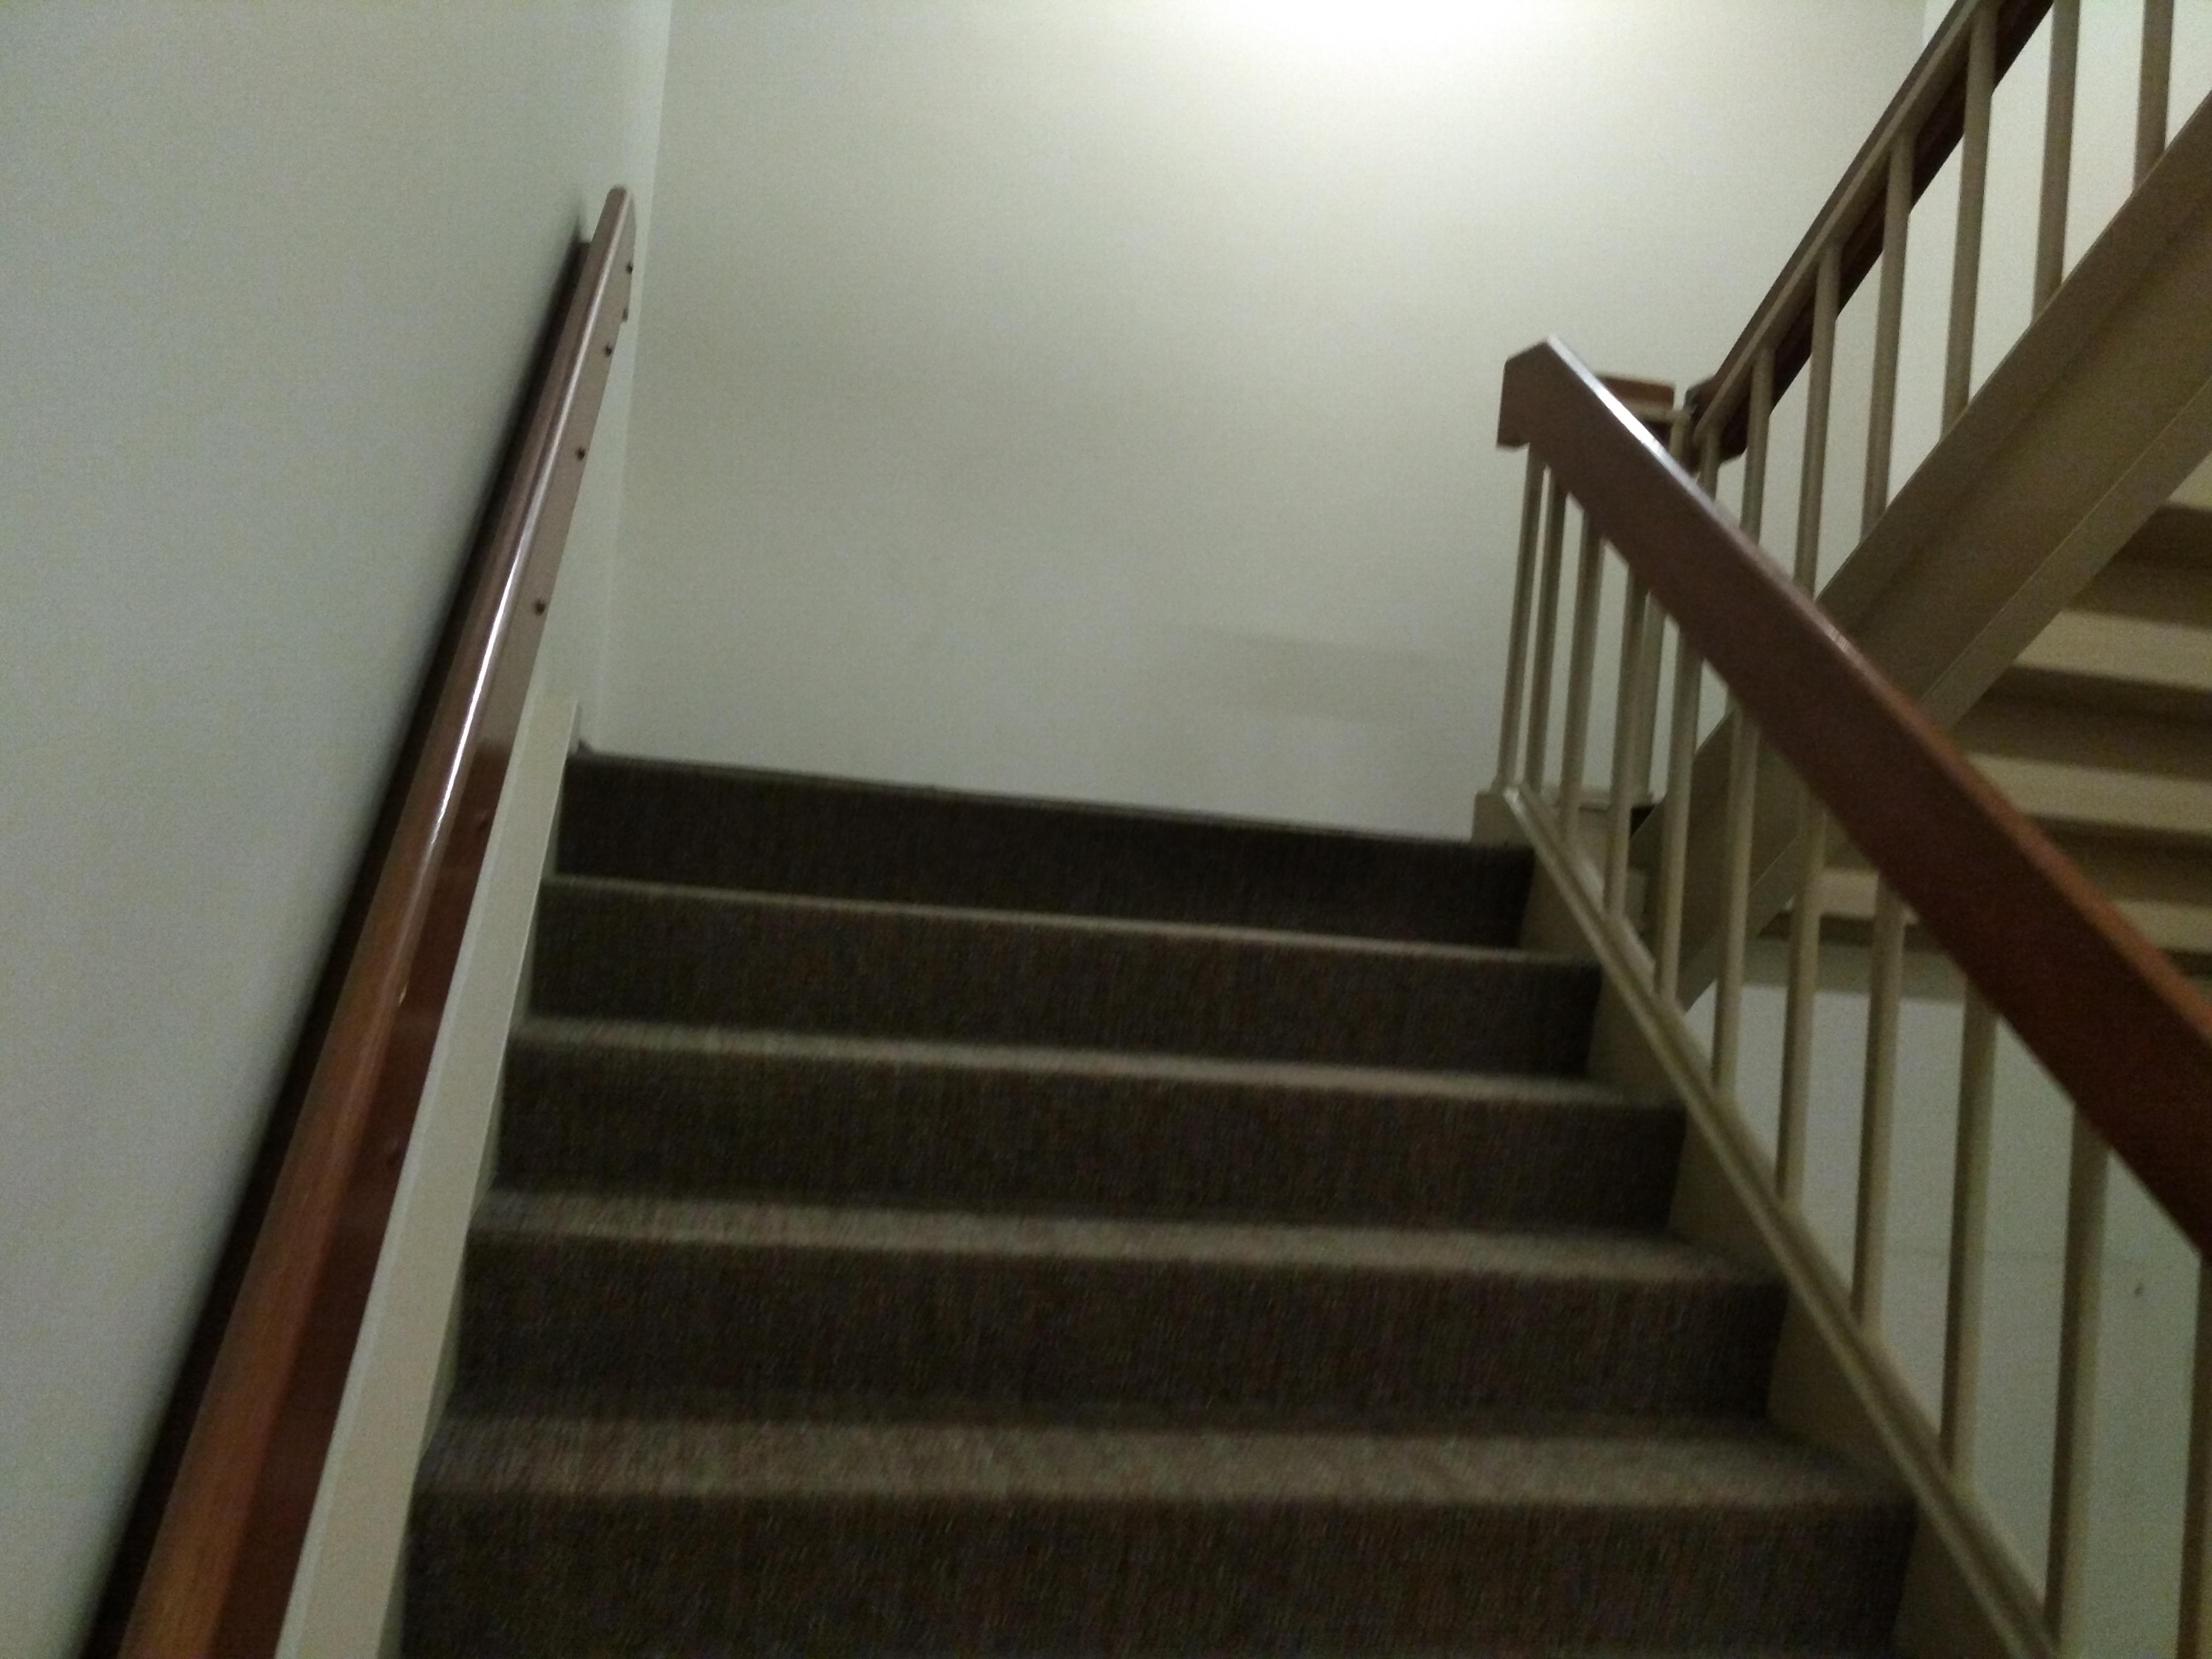stairs_up: (428, 688, 1935, 1610)
